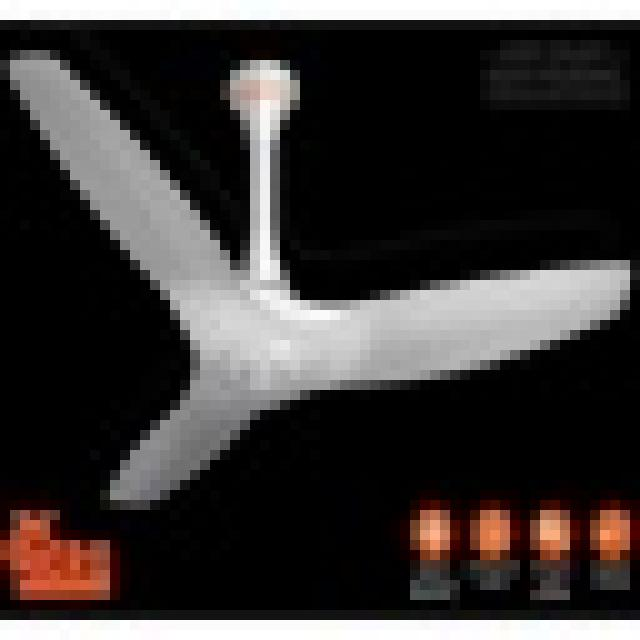Bulb: (5, 50, 640, 485)
